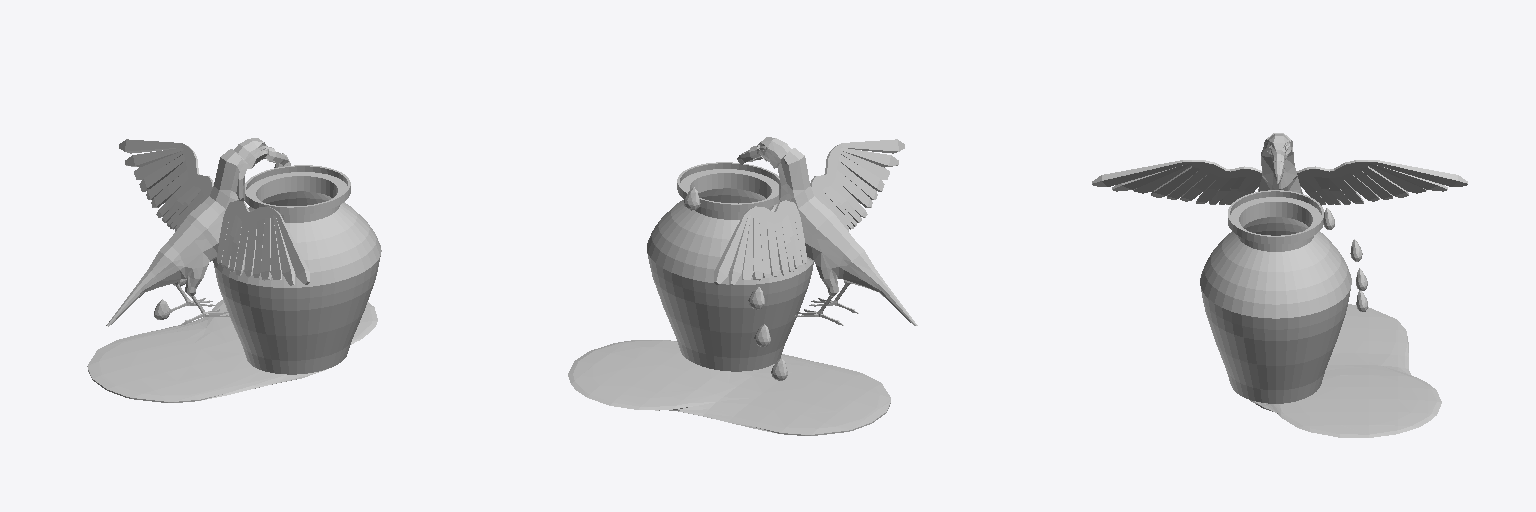
Rendered from bheegahuakaua13.obj.
3 views of the same model, side by side, from view 1: azimuth 30°, elevation 25°; view 2: azimuth 150°, elevation 25°; view 3: azimuth 270°, elevation 25° (orthographic).
Parts seen in each view (by area): view 1: Circle, Cylinder, Mball; view 2: Circle, Mball, Cylinder; view 3: Circle, Mball, Cylinder.
Part boxes in pixels (bbox=[...]): Circle: bbox=[213, 165, 381, 374]; Cylinder: bbox=[106, 138, 309, 326]; Mball: bbox=[87, 300, 377, 402]; Circle: bbox=[647, 162, 813, 371]; Mball: bbox=[568, 340, 890, 435]; Cylinder: bbox=[714, 137, 917, 325]; Circle: bbox=[1200, 190, 1351, 403]; Mball: bbox=[1250, 304, 1441, 437]; Cylinder: bbox=[1092, 133, 1467, 205].
Bounding box in the file's own units: 1.18 × 0.886 × 1.28.